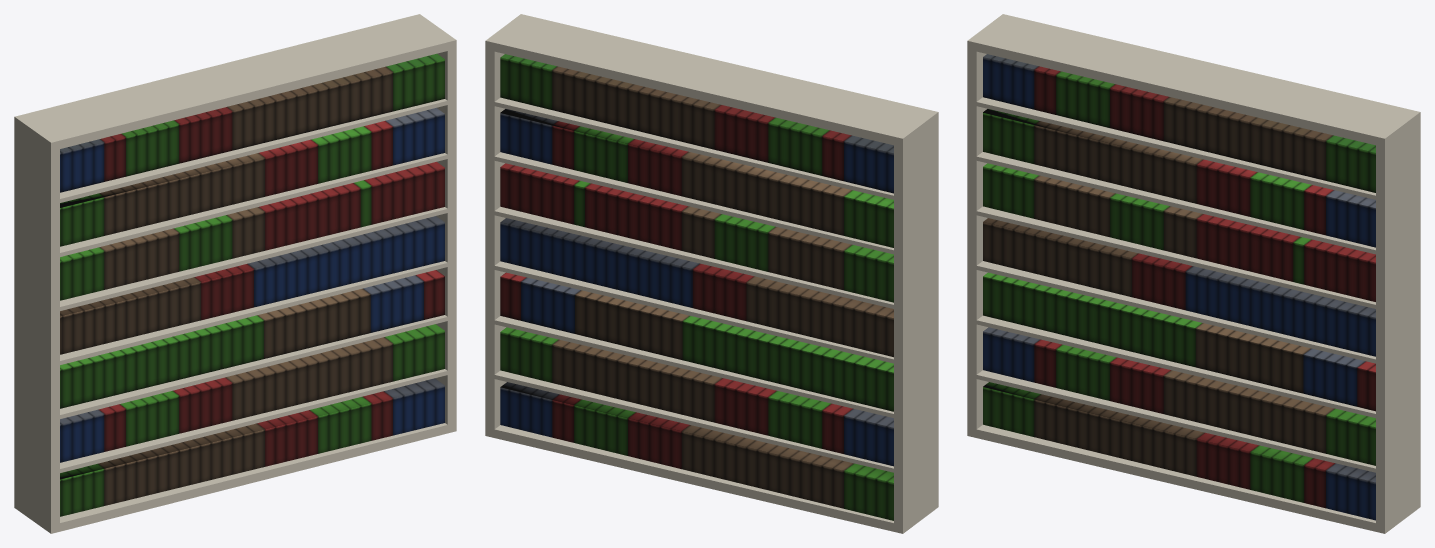
Rendered from BookShelf.fbx.
3 views of the same model, side by side, from view 1: azimuth 30°, elevation 25°; view 2: azimuth 150°, elevation 25°; view 3: azimuth 330°, elevation 25° (orthographic).
Parts seen in each view (by area): view 1: BookShelf; view 2: BookShelf; view 3: BookShelf.
Boxes of the visible parts, x1,y1,x2,y2 form: BookShelf: (14,14,456,533); BookShelf: (485,14,938,533); BookShelf: (967,14,1420,533).
Size of the model in its own units: 1031 by 939 by 173.
